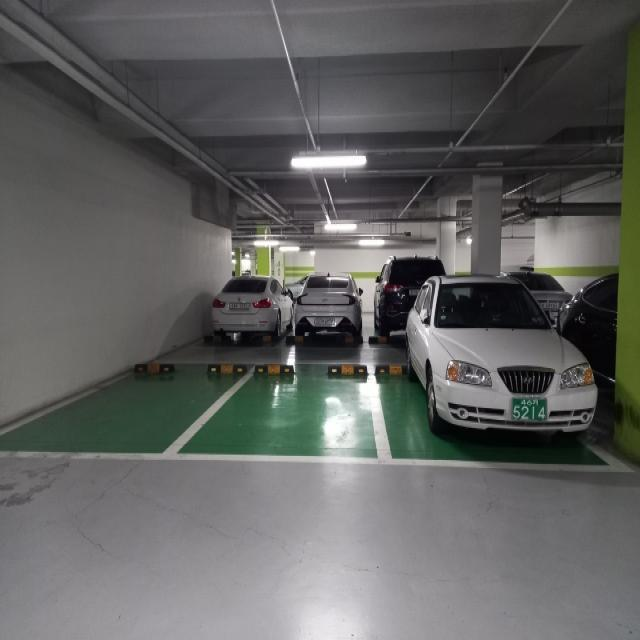empty: (62, 359, 228, 450), (224, 361, 391, 450)
occupied: (392, 278, 602, 437)
